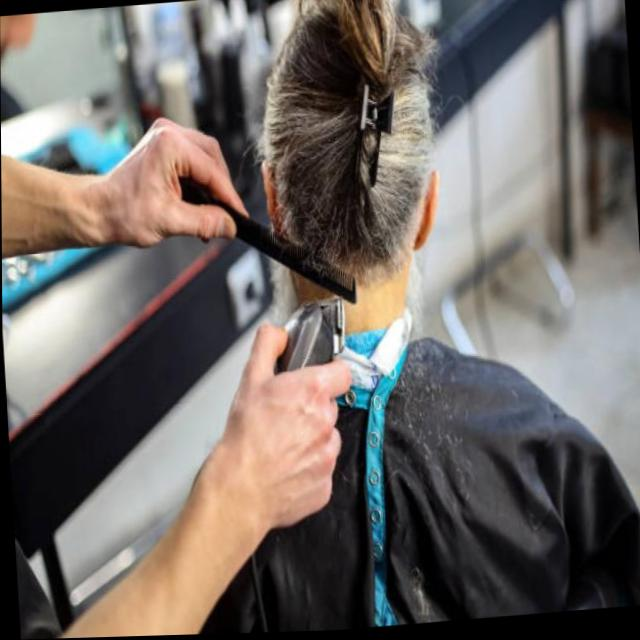no helmet: (239, 0, 456, 357)
